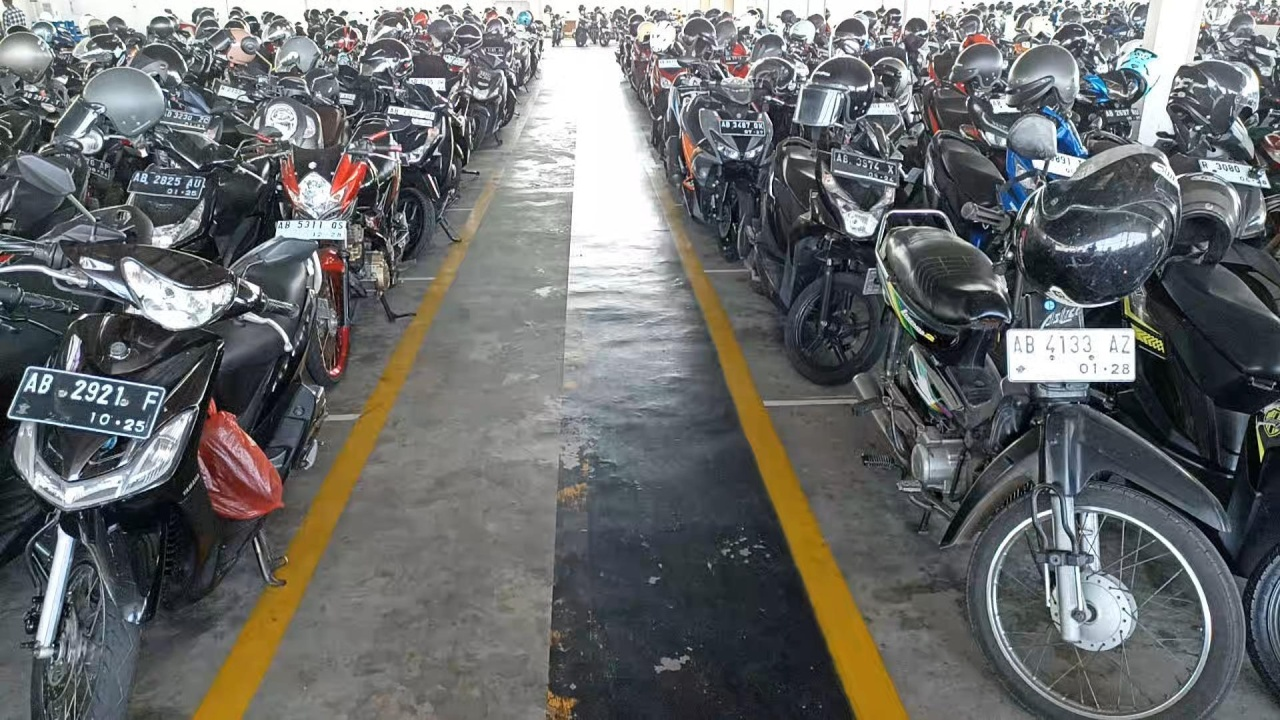plate: (6, 366, 167, 440), (1007, 328, 1136, 383), (833, 149, 898, 187), (127, 171, 206, 199), (275, 220, 346, 239), (720, 120, 765, 136)
